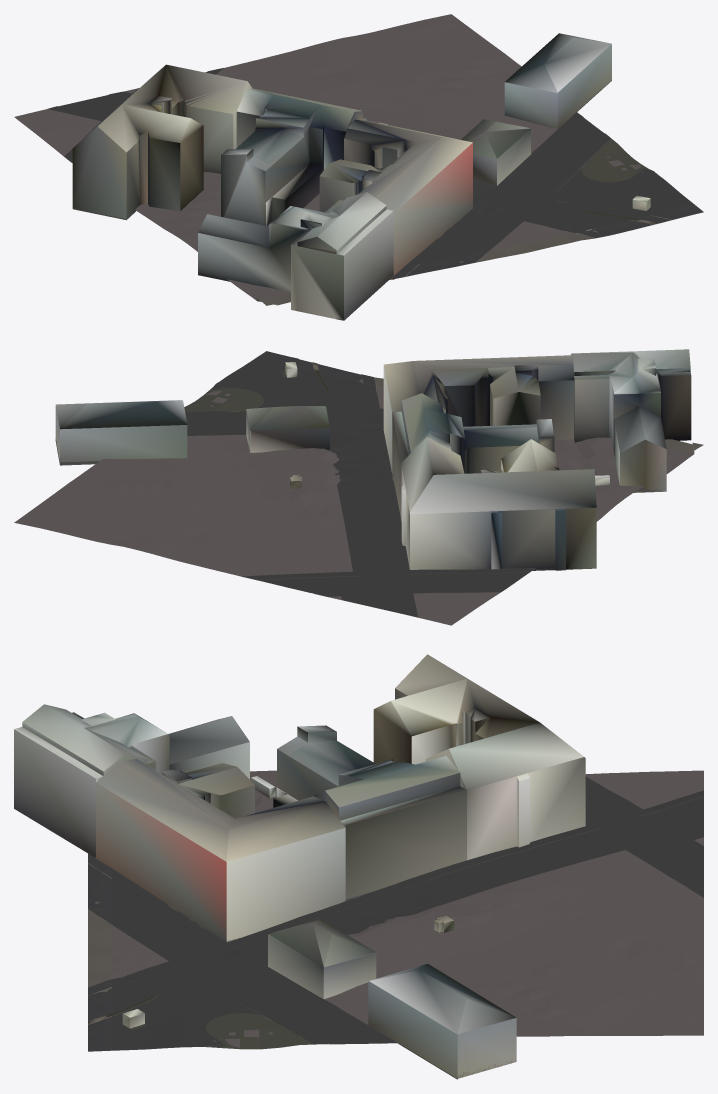
3 views of the same model, one above another, from view 1: azimuth 30°, elevation 25°; view 2: azimuth 150°, elevation 25°; view 3: azimuth 270°, elevation 25° (orthographic). The views are drawn at different scales.
Visible parts, largest first — view 1: c_m11_p05; view 2: c_m11_p05; view 3: c_m11_p05.
Boxes of the visible parts, <box> form: c_m11_p05: <box>14,14,703,320</box>; c_m11_p05: <box>14,349,703,625</box>; c_m11_p05: <box>14,654,703,1079</box>.
Bounding box in the file's own units: 158 × 27.54 × 143.
